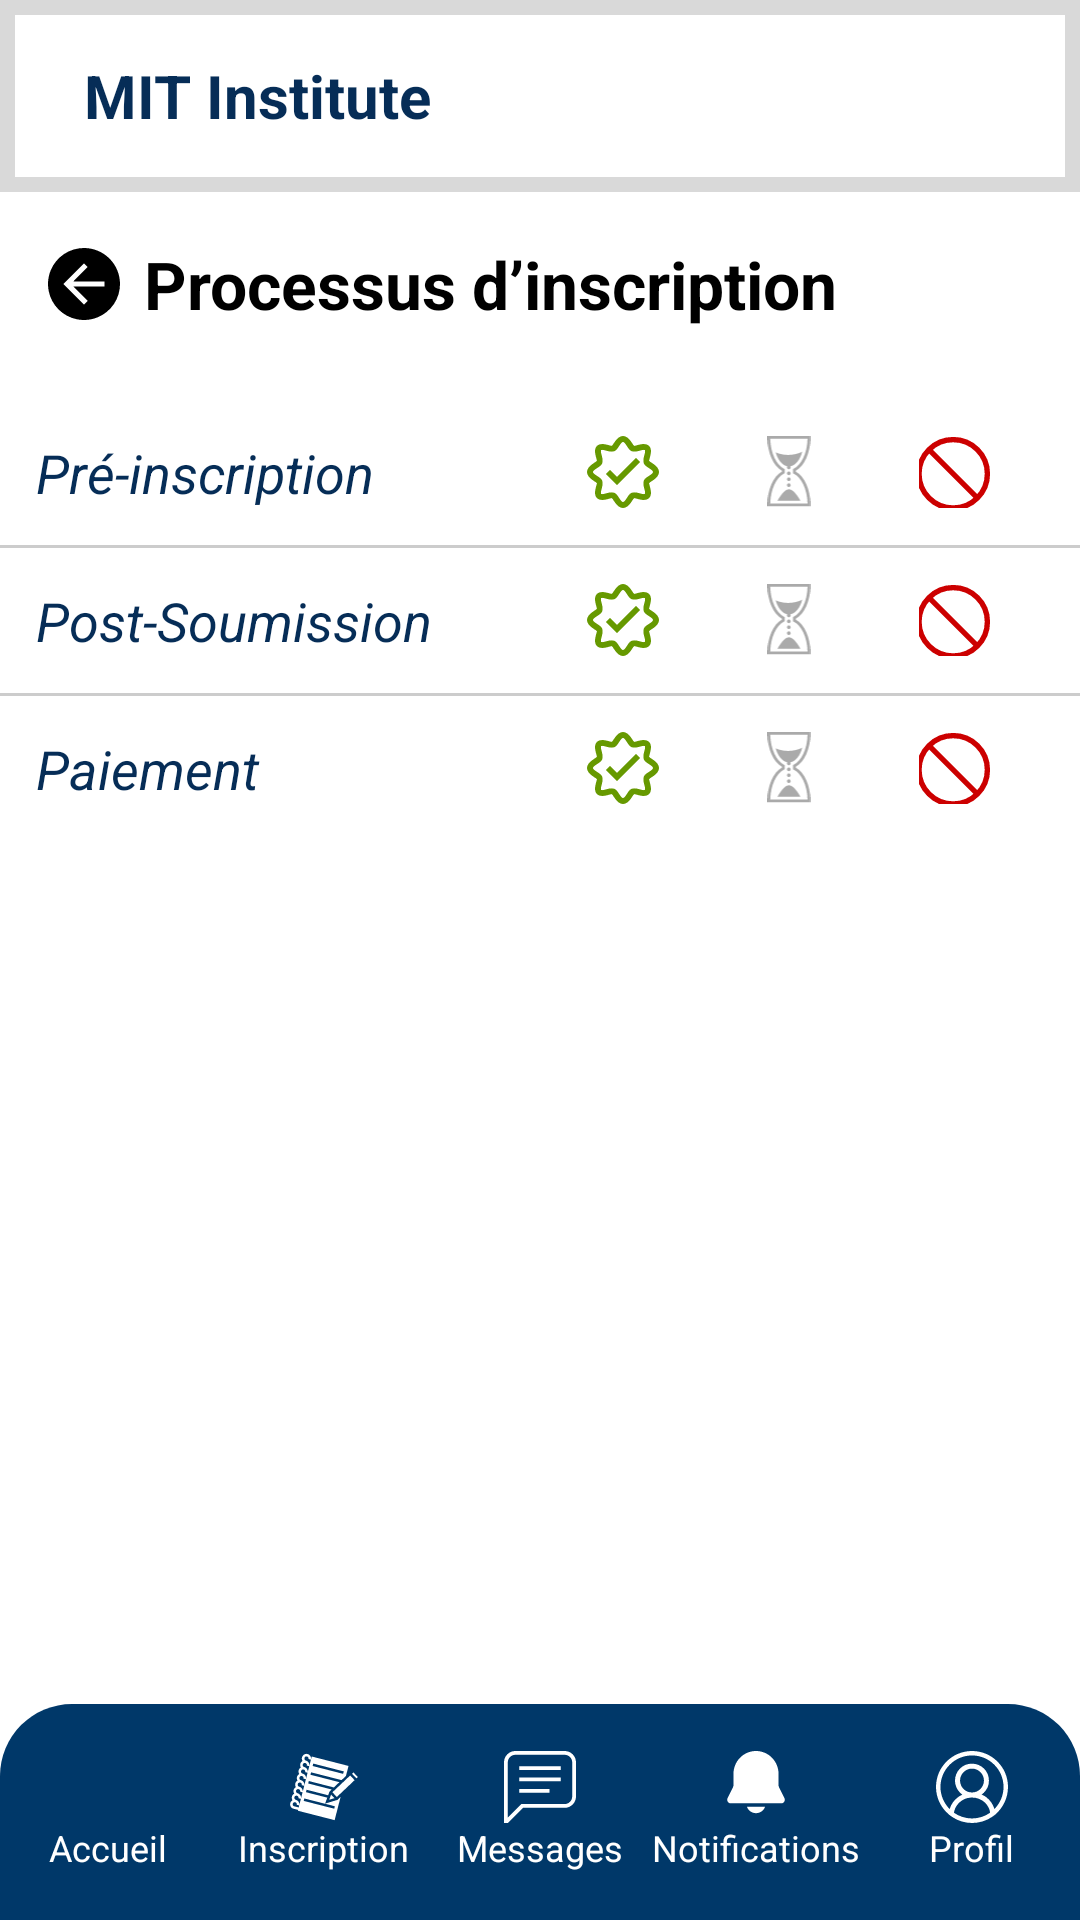

Icons on this 1080 x 1920 Android screen, each with the point to tap as (x=x, y=y):
block: (x=954, y=472), (x=954, y=620), (x=954, y=768)
check: (x=623, y=472), (x=623, y=620), (x=623, y=768)
hourglass: (x=789, y=471), (x=789, y=619), (x=789, y=767)
Notes: (x=324, y=1786)
Retour: (x=84, y=284)
